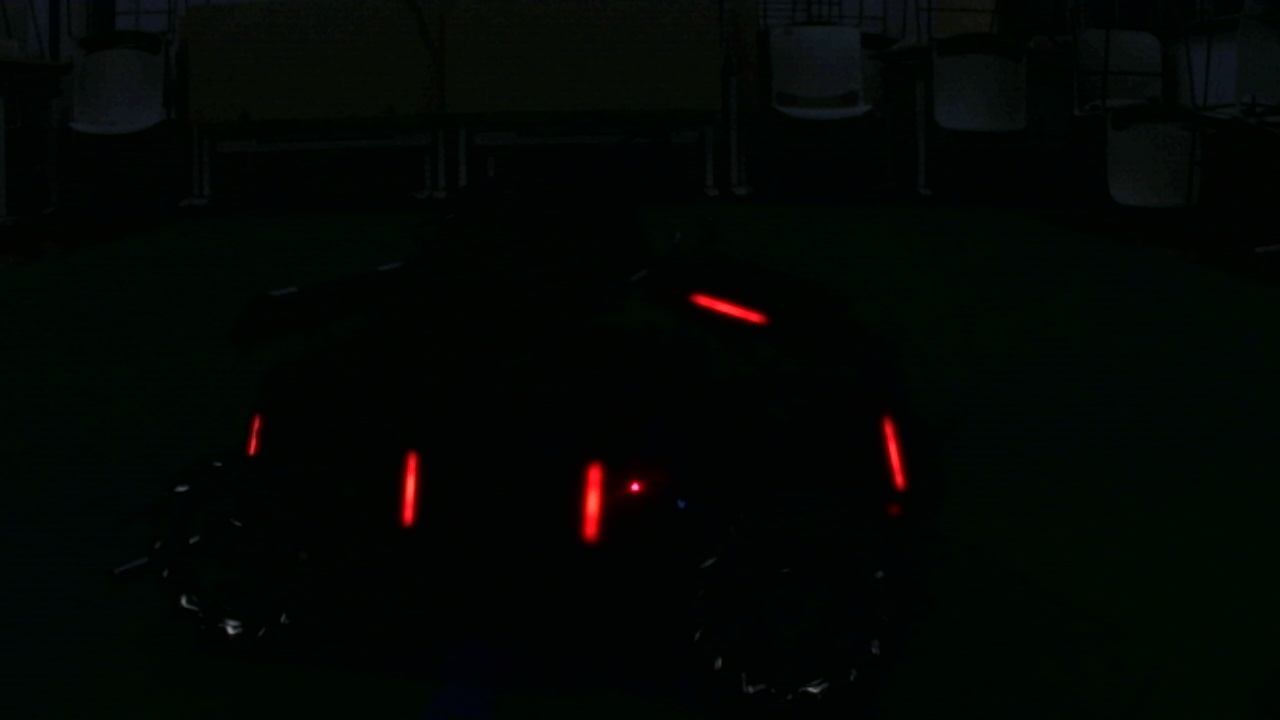lamp: (582, 451, 608, 543), (881, 411, 904, 492), (398, 448, 416, 531)
notpair1: (583, 409, 913, 539)
pair1: (400, 453, 608, 543)
